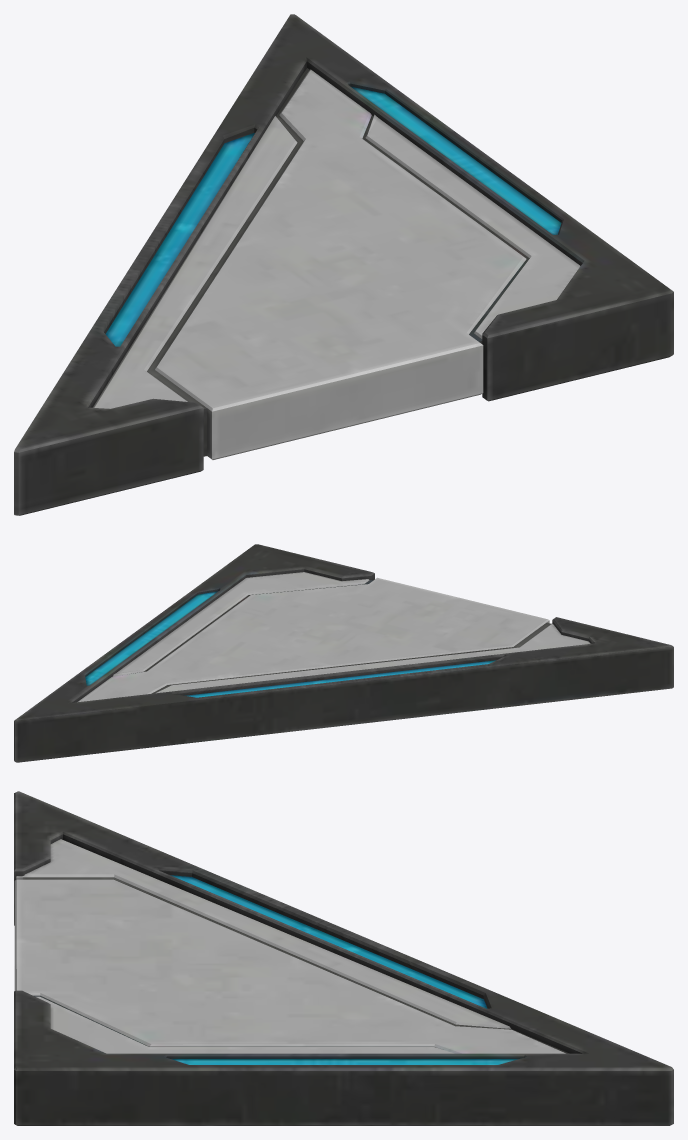
The model's file is SM_RoofTriangle_Ancient_fafd71.glb.
The picture shows the model from 3 angles, top to bottom: view 1: azimuth 30°, elevation 25°; view 2: azimuth 150°, elevation 25°; view 3: azimuth 270°, elevation 25°; orthographic projection. The views are drawn at different scales.
Size of the model in its own units: 4 by 0.3841 by 4.
1 material, 1 textured.
